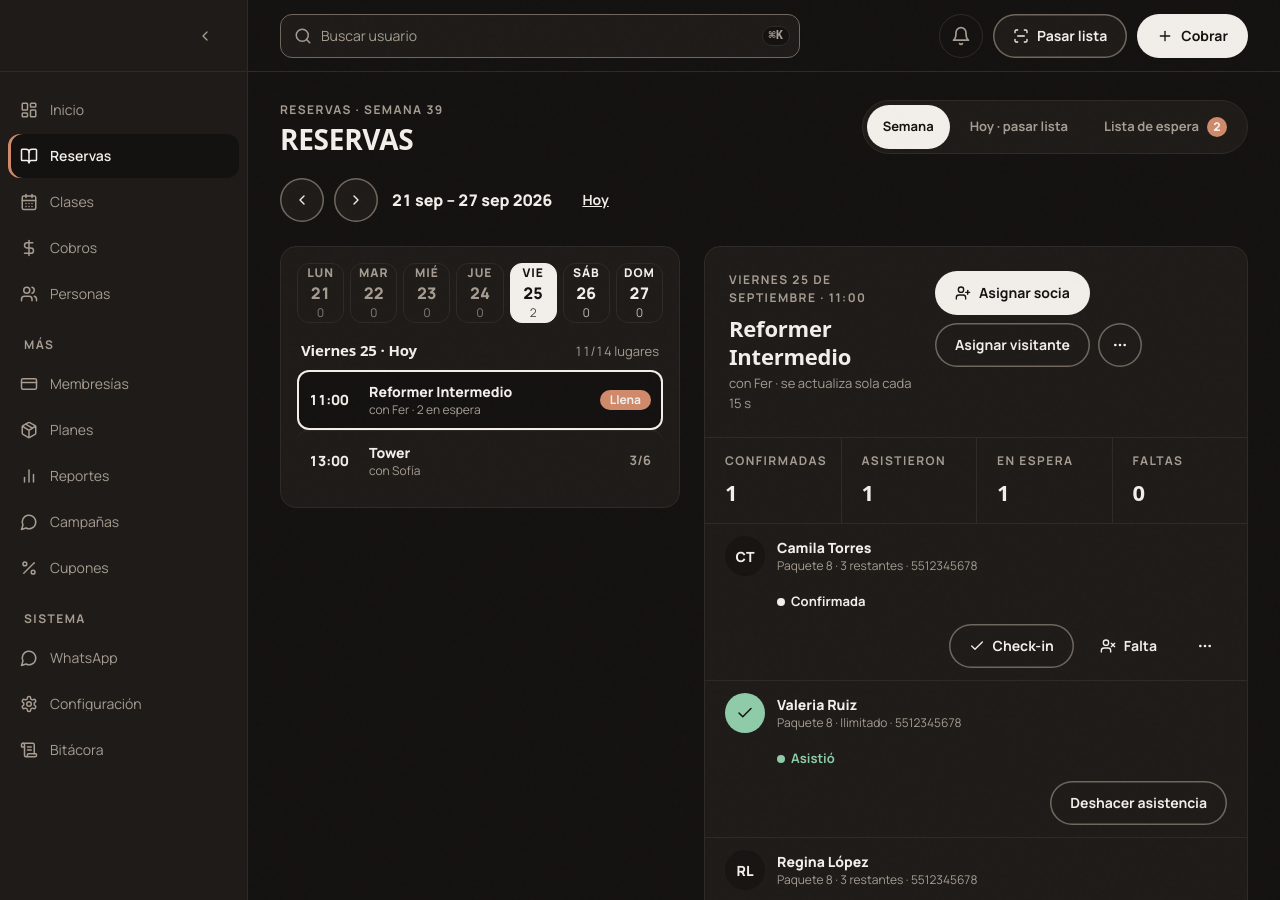
Test: Reservas · Semana › con visitas habilitadas se ofrece visitante y acompañante
Expected: the heading "Reformer Intermedio" is shown, [729,313,851,370]
Expected: the button "Asignar visitante" is shown, [935,323,1090,367]
What coordinates should you click on to do the following:
click the button "Asignar socia"
I would click on:
 (1012, 293)
Its box is [935,271,1090,315].
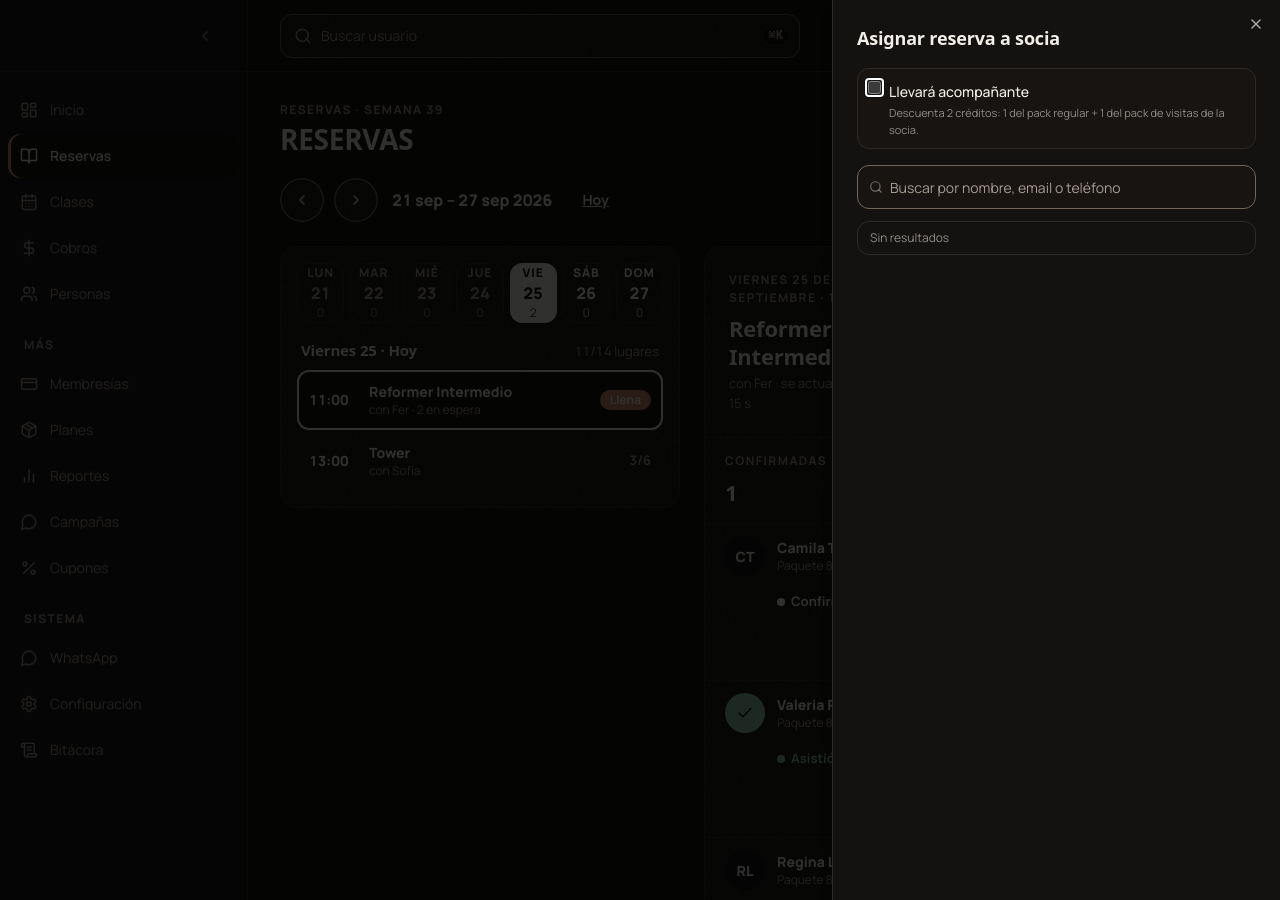
Expected: the heading "Asignar reserva a socia" is shown, [857,26,1060,50]
Expected: the text "Llevará acompañante" is shown, [889,82,1029,101]
